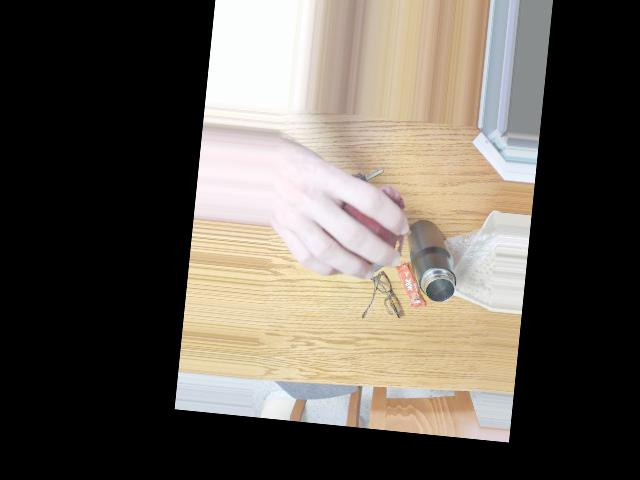onion: (319, 178, 394, 277)
